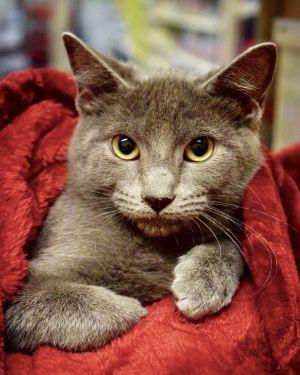rblue: (59, 17, 289, 251)
